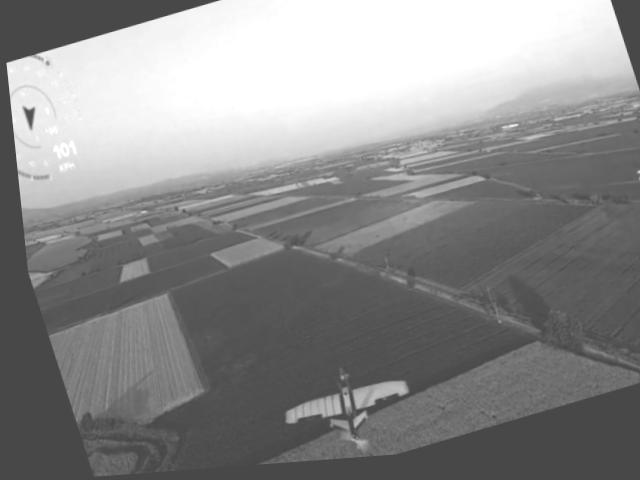hedef: (259, 348, 419, 467)
